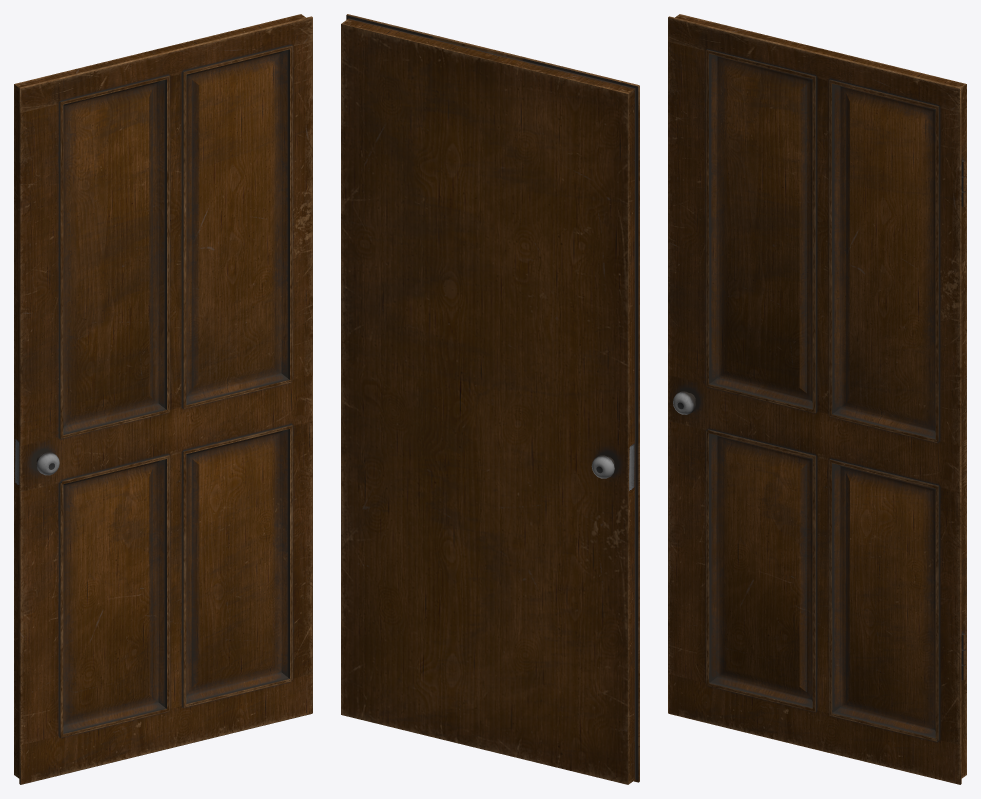
Rendered from door_wooden_old-18mb.glb.
The picture shows the model from 3 angles, left to right: view 1: azimuth 30°, elevation 25°; view 2: azimuth 150°, elevation 25°; view 3: azimuth 330°, elevation 25°; orthographic projection.
Visible parts, largest first — view 1: Symmetry; view 2: Symmetry; view 3: Symmetry.
Part boxes in pixels (x1,y1,x2,y2): Symmetry: (14,14,312,784); Symmetry: (341,14,639,784); Symmetry: (668,14,966,784).
Size of the model in its own units: 1.02 by 2.32 by 0.1712.
1 material, 1 textured.
